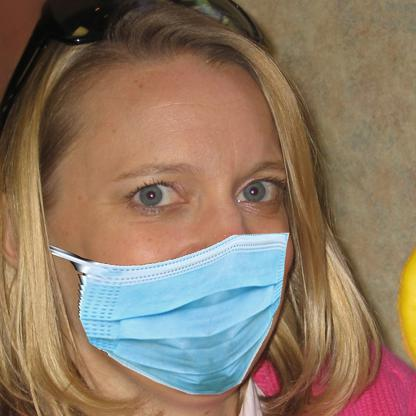mask: (74, 233, 292, 396)
